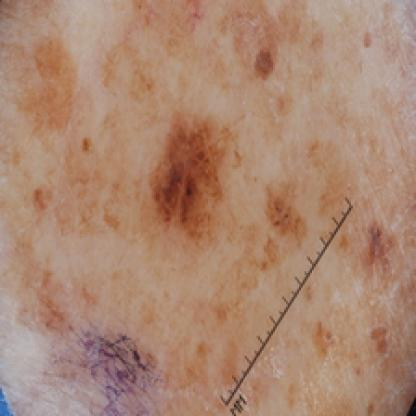malignant: (147, 115, 249, 243)
